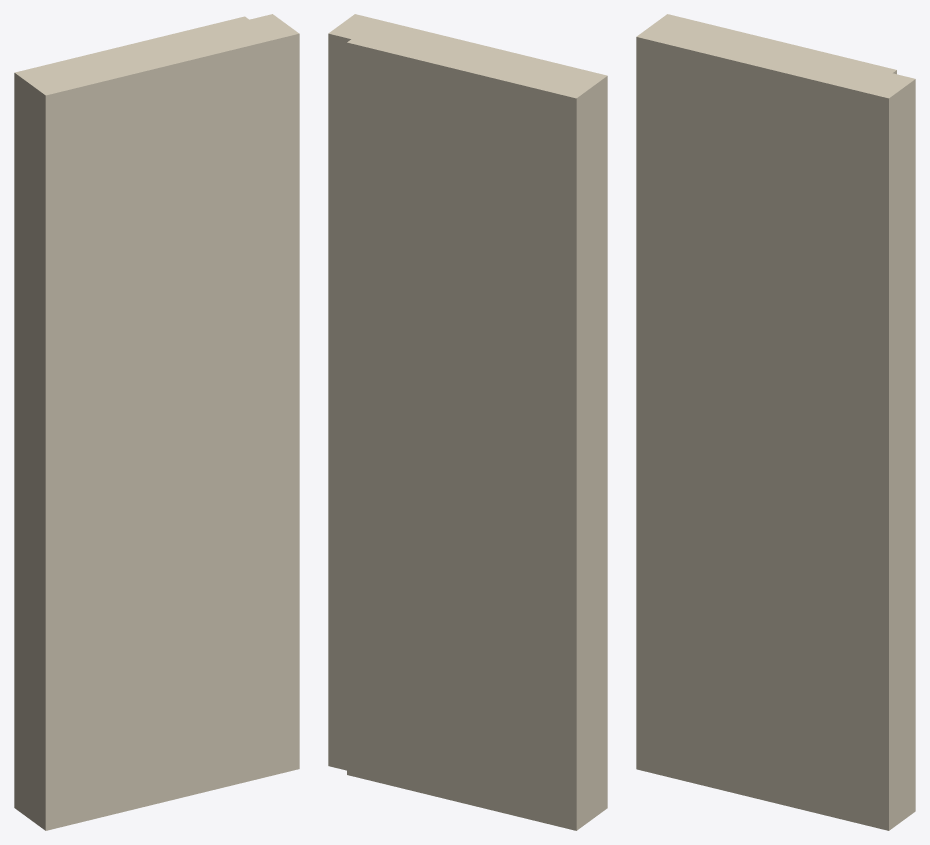
The picture shows the model from 3 angles, left to right: view 1: azimuth 30°, elevation 25°; view 2: azimuth 150°, elevation 25°; view 3: azimuth 330°, elevation 25°; orthographic projection.
Parts seen in each view (by area): view 1: A-GF-WALL-016; view 2: A-GF-WALL-016; view 3: A-GF-WALL-016.
Boxes of the visible parts, bbox=[...] form: A-GF-WALL-016: bbox=[14, 14, 299, 830]; A-GF-WALL-016: bbox=[328, 14, 607, 830]; A-GF-WALL-016: bbox=[636, 14, 915, 830].
Size of the model in its own units: 0.982 by 2.72 by 0.21.
